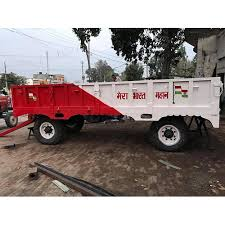wheel: (154, 122, 187, 154), (35, 117, 59, 145)
